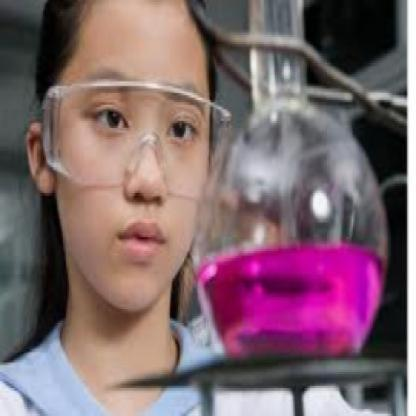oculos: (16, 75, 236, 197)
